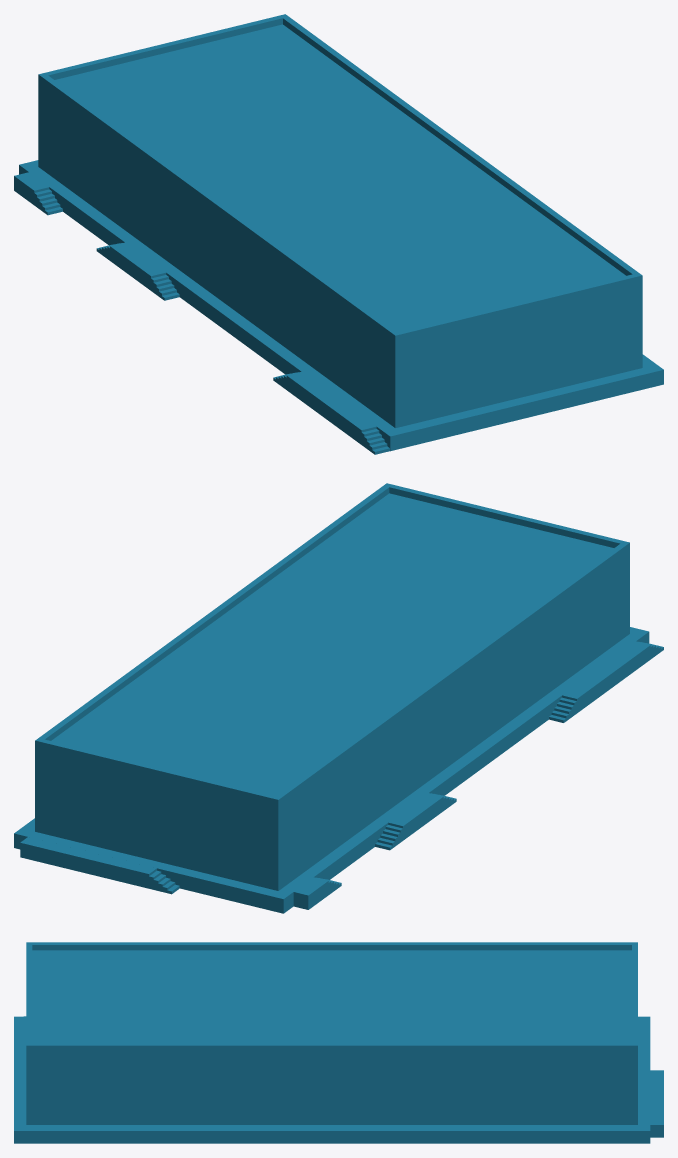
The model's file is yq_shebeifang.glb.
3 views of the same model, one above another, from view 1: azimuth 30°, elevation 25°; view 2: azimuth 150°, elevation 25°; view 3: azimuth 270°, elevation 25° (orthographic). The views are drawn at different scales.
Parts seen in each view (by area): view 1: yq_shebeifang04, yq_shebeifang02, yq_shebeifang01, yq_shebeifang00; view 2: yq_shebeifang04, yq_shebeifang03, yq_shebeifang02, yq_shebeifang01, yq_shebeifang00; view 3: yq_shebeifang04, yq_shebeifang03.
Boxes of the visible parts, x1,y1,x2,y2 form: yq_shebeifang04: (19, 14, 663, 451); yq_shebeifang02: (273, 371, 389, 454); yq_shebeifang01: (96, 242, 179, 300); yq_shebeifang00: (14, 172, 62, 215); yq_shebeifang04: (14, 483, 649, 913); yq_shebeifang03: (20, 837, 179, 894); yq_shebeifang02: (549, 641, 663, 722); yq_shebeifang01: (375, 793, 456, 850); yq_shebeifang00: (293, 877, 341, 909); yq_shebeifang04: (14, 942, 650, 1143); yq_shebeifang03: (650, 1070, 663, 1137).
Bounding box in the file's own units: 18.71 × 6.65 × 42.55.
